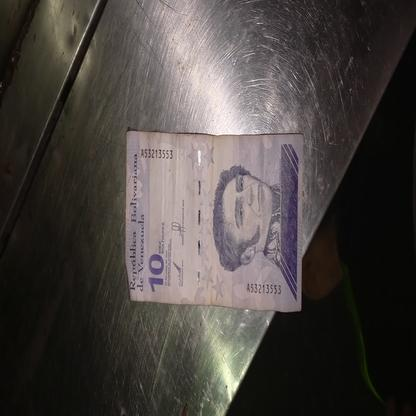ten-front-vef: (104, 124, 285, 301)
